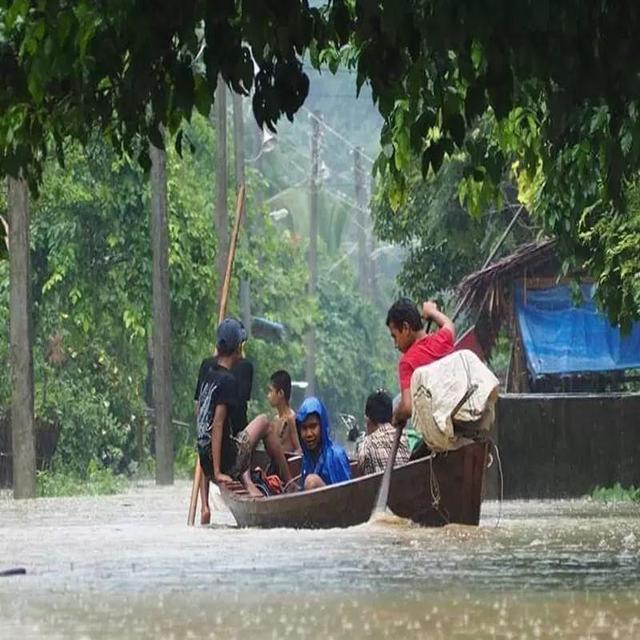Person-RiskLevel3: (196, 302, 484, 495)
